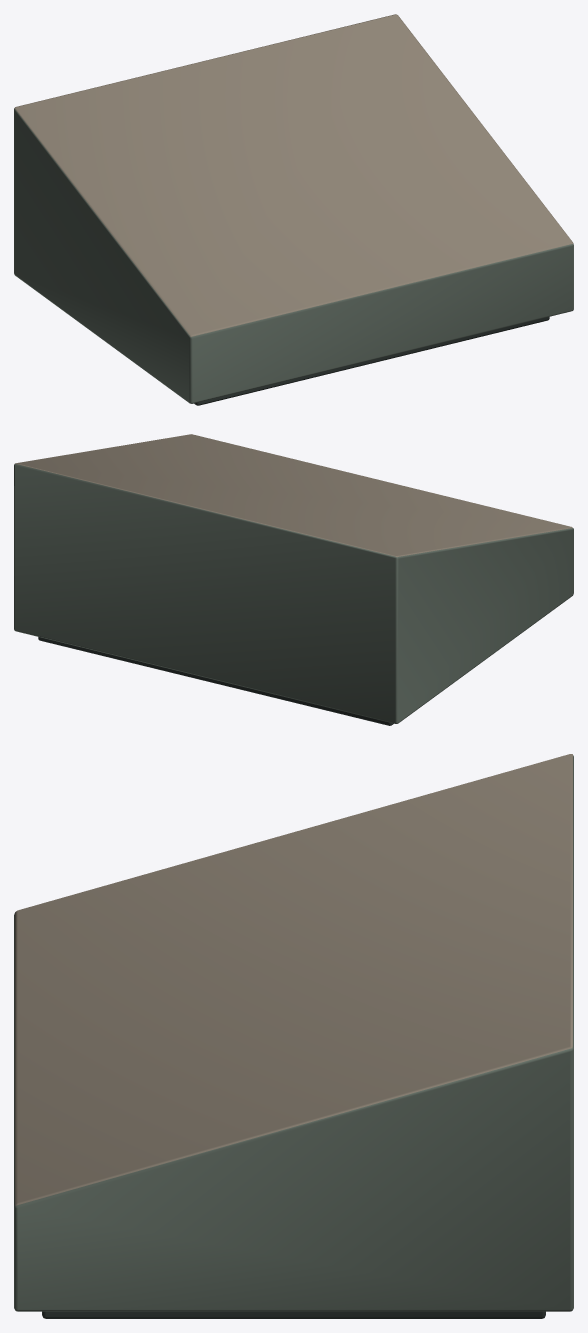
Rendered from SM_Plinth_Wedge.fbx.
3 renders of one model, top to bottom at view 1: azimuth 30°, elevation 25°; view 2: azimuth 150°, elevation 25°; view 3: azimuth 270°, elevation 25°, orthographic. The views are drawn at different scales.
Parts seen in each view (by area): view 1: SM_Plinth_Wedge__Body; view 2: SM_Plinth_Wedge__Body; view 3: SM_Plinth_Wedge__Body.
Boxes of the visible parts, x1,y1,x2,y2 form: SM_Plinth_Wedge__Body: (14,14,573,405); SM_Plinth_Wedge__Body: (14,434,573,725); SM_Plinth_Wedge__Body: (14,754,573,1318).
Bounding box in the file's own units: 1 × 0.4482 × 0.8.
